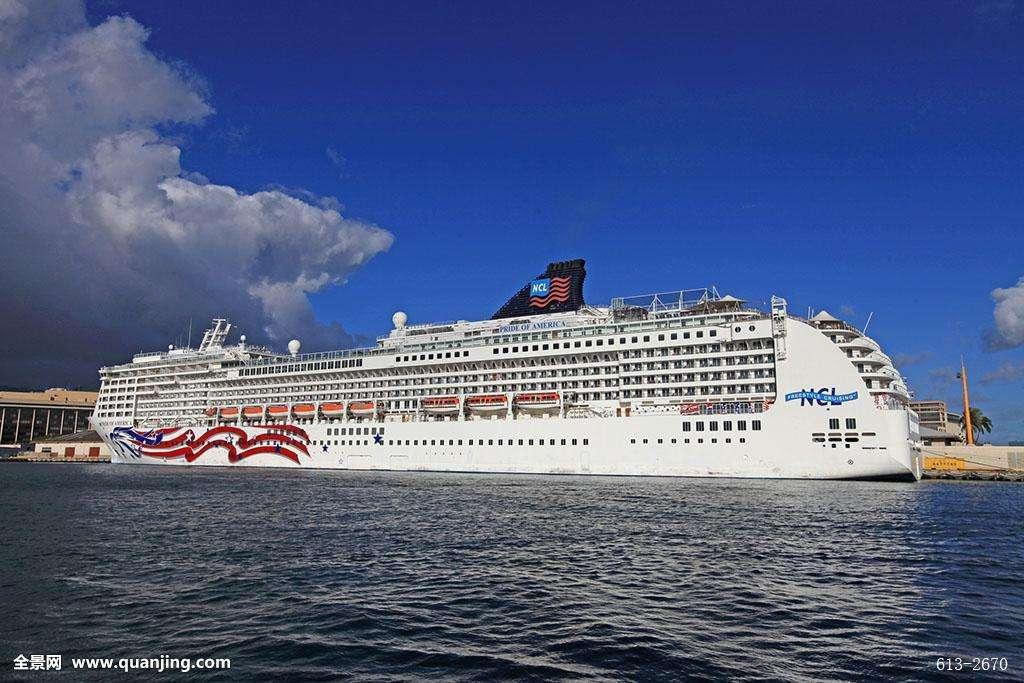youlun: (82, 255, 922, 473)
